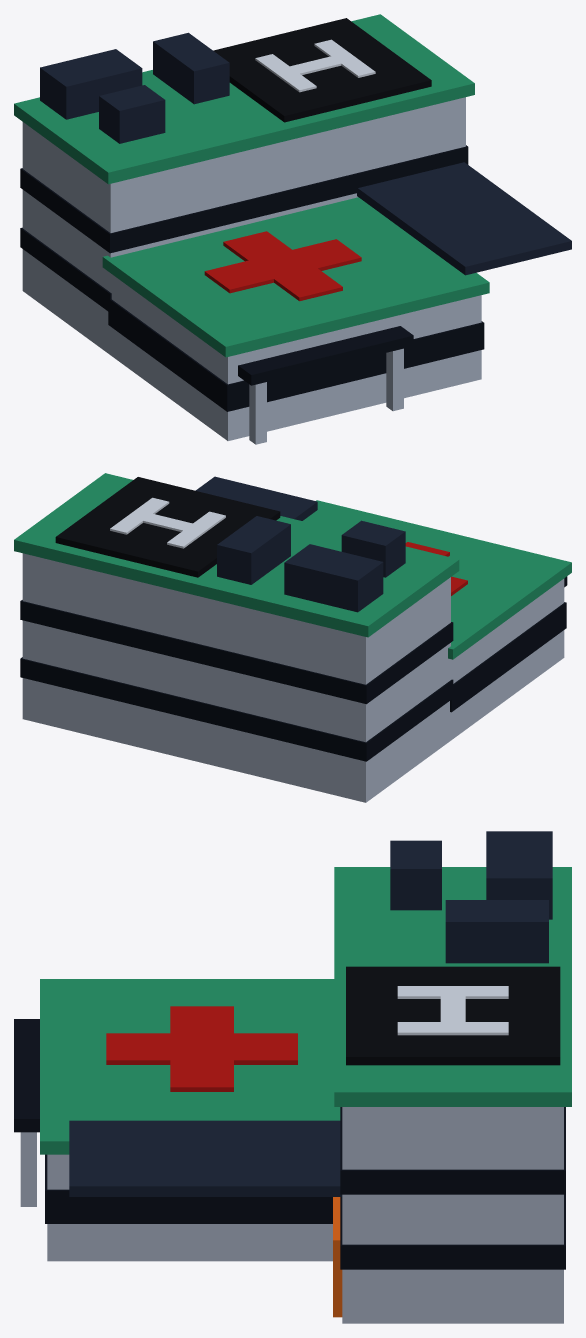
Rendered from hospital.obj.
3 views of the same model, one above another, from view 1: azimuth 30°, elevation 25°; view 2: azimuth 150°, elevation 25°; view 3: azimuth 270°, elevation 25° (orthographic). The views are drawn at different scales.
Parts seen in each view (by area): view 1: ward, wing-cap, ward-cap, wing, bay-canopy, roof-plant, helipad, ward-glazing, wing-glazing, cross, entrance-canopy, helipad-mark (+1 smaller); view 2: ward, ward-glazing, ward-cap, roof-plant, wing-cap, helipad, wing, wing-glazing, bay-canopy, helipad-mark, cross; view 3: ward, wing-cap, ward-cap, bay-canopy, helipad, roof-plant, ward-glazing, wing, cross, wing-glazing, helipad-mark, entrance-canopy (+2 smaller).
Part boxes in pixels (left/top/right/bottom): ward: left=22, top=97, right=465, bottom=354; wing-cap: left=102, top=197, right=489, bottom=357; ward-cap: left=14, top=14, right=474, bottom=184; wing: left=110, top=273, right=481, bottom=440; bay-canopy: left=357, top=162, right=571, bottom=275; roof-plant: left=40, top=32, right=229, bottom=143; helipad: left=213, top=18, right=431, bottom=122; ward-glazing: left=20, top=145, right=468, bottom=311; wing-glazing: left=108, top=299, right=484, bottom=411; cross: left=204, top=231, right=361, bottom=301; entrance-canopy: left=238, top=326, right=413, bottom=385; helipad-mark: left=255, top=39, right=375, bottom=92; ward: left=22, top=553, right=450, bottom=802; ward-glazing: left=20, top=600, right=453, bottom=761; ward-cap: left=14, top=473, right=459, bottom=637; roof-plant: left=217, top=516, right=405, bottom=612; wing-cap: left=302, top=500, right=571, bottom=659; helipad: left=55, top=477, right=280, bottom=577; wing: left=451, top=578, right=564, bottom=740; wing-glazing: left=450, top=602, right=566, bottom=712; bay-canopy: left=195, top=476, right=317, bottom=520; helipad-mark: left=110, top=497, right=225, bottom=548; cross: left=405, top=542, right=467, bottom=595; ward: left=342, top=1107, right=563, bottom=1323; wing-cap: left=40, top=979, right=340, bottom=1154; ward-cap: left=334, top=867, right=571, bottom=1106; bay-canopy: left=69, top=1120, right=342, bottom=1196; helipad: left=346, top=966, right=560, bottom=1065; roof-plant: left=390, top=831, right=552, bottom=963; ward-glazing: left=340, top=1107, right=565, bottom=1269; wing: left=47, top=1154, right=332, bottom=1261; cross: left=106, top=1006, right=297, bottom=1091; wing-glazing: left=45, top=1154, right=332, bottom=1223; helipad-mark: left=397, top=986, right=508, bottom=1035; entrance-canopy: left=14, top=1019, right=39, bottom=1132.
Bounding box in the file's own units: 7.22 × 4.21 × 7.56.
